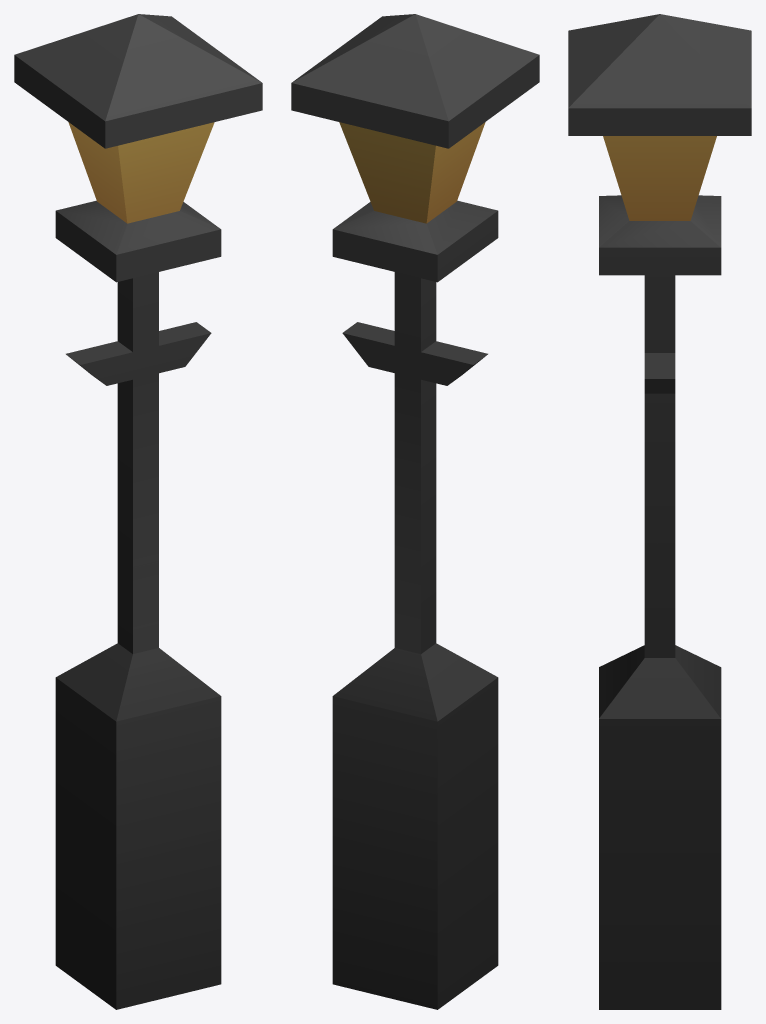
File: streetlight_old_single.glb
3 views of the same model, side by side, from view 1: azimuth 30°, elevation 25°; view 2: azimuth 150°, elevation 25°; view 3: azimuth 270°, elevation 25° (orthographic).
Parts seen in each view (by area): view 1: streetlight_old_single; view 2: streetlight_old_single; view 3: streetlight_old_single.
Part boxes in pixels (<box>): streetlight_old_single: <box>14,14,262,1009</box>; streetlight_old_single: <box>291,14,539,1009</box>; streetlight_old_single: <box>568,14,751,1009</box>.
Bounding box in the file's own units: 0.12 × 0.7 × 0.12.
Materials: 1 (1 with a texture image).
